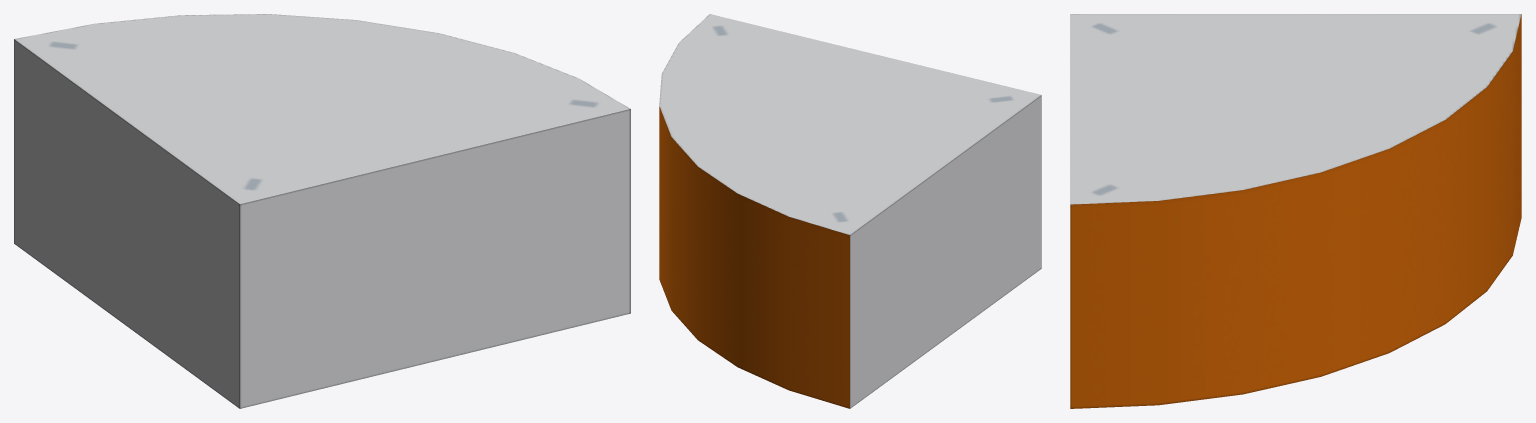
File: Wall_Coin_Simple_03_B.FBX
3 views of the same model, side by side, from view 1: azimuth 30°, elevation 25°; view 2: azimuth 150°, elevation 25°; view 3: azimuth 270°, elevation 25° (orthographic). The views are drawn at different scales.
Visible parts, largest first — view 1: Wall_Coin_Simple_03_B; view 2: Wall_Coin_Simple_03_B; view 3: Wall_Coin_Simple_03_B.
Boxes of the visible parts, <box> form: Wall_Coin_Simple_03_B: <box>14,14,630,408</box>; Wall_Coin_Simple_03_B: <box>659,14,1041,408</box>; Wall_Coin_Simple_03_B: <box>1070,14,1521,408</box>.
Size of the model in its own units: 2 by 1 by 2.
